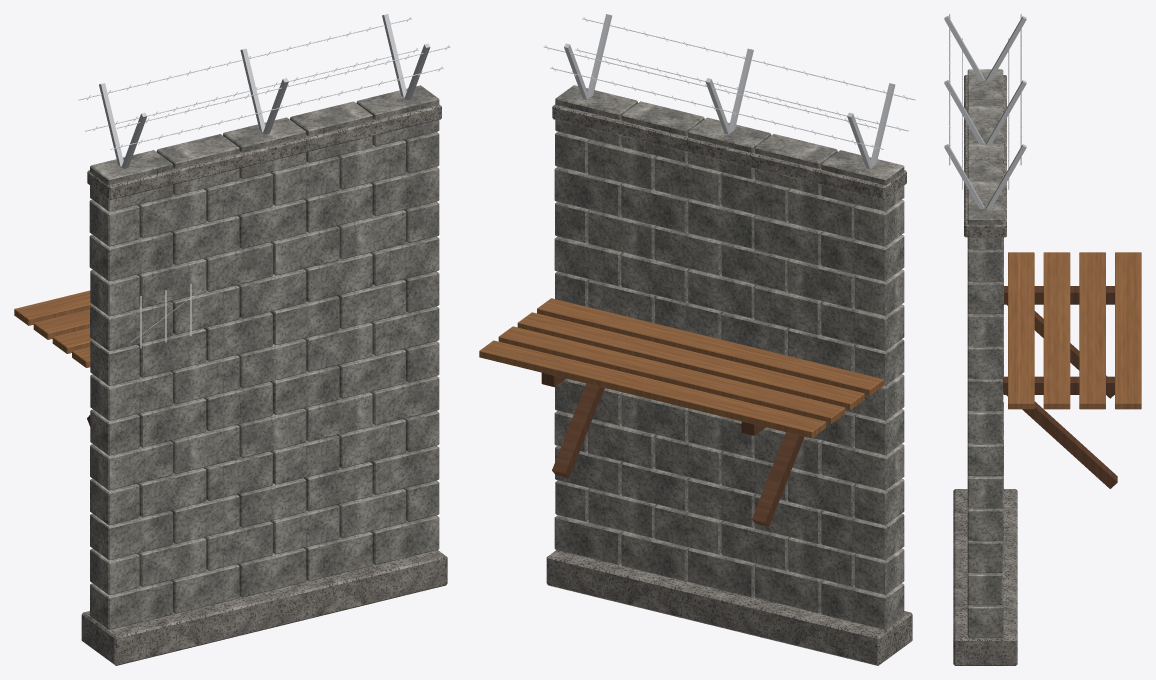
The model's file is muralha_concreto.glb.
The picture shows the model from 3 angles, left to right: view 1: azimuth 30°, elevation 25°; view 2: azimuth 150°, elevation 25°; view 3: azimuth 270°, elevation 25°; orthographic projection. The views are drawn at different scales.
Visible parts, largest first — view 1: muralha_concreto_concreto_bloco, muralha_concreto_concreto, muralha_concreto_aco, muralha_concreto_madeira; view 2: muralha_concreto_concreto_bloco, muralha_concreto_madeira, muralha_concreto_concreto, muralha_concreto_aco, muralha_concreto_madeira_escura; view 3: muralha_concreto_concreto_bloco, muralha_concreto_madeira, muralha_concreto_concreto, muralha_concreto_madeira_escura, muralha_concreto_aco.
Part boxes in pixels (x1=…): muralha_concreto_concreto_bloco: x1=89, y1=85, x2=439, y2=629; muralha_concreto_concreto: x1=81, y1=104, x2=447, y2=665; muralha_concreto_aco: x1=79, y1=14, x2=450, y2=168; muralha_concreto_madeira: x1=14, y1=290, x2=92, y2=367; muralha_concreto_concreto_bloco: x1=554, y1=85, x2=904, y2=629; muralha_concreto_madeira: x1=479, y1=298, x2=883, y2=438; muralha_concreto_concreto: x1=546, y1=104, x2=912, y2=665; muralha_concreto_aco: x1=544, y1=14, x2=915, y2=168; muralha_concreto_madeira_escura: x1=541, y1=372, x2=804, y2=526; muralha_concreto_concreto_bloco: x1=967, y1=69, x2=1003, y2=637; muralha_concreto_madeira: x1=1008, y1=252, x2=1141, y2=409; muralha_concreto_concreto: x1=953, y1=75, x2=1017, y2=665; muralha_concreto_madeira_escura: x1=1003, y1=286, x2=1117, y2=488; muralha_concreto_aco: x1=944, y1=14, x2=1026, y2=208.
Size of the model in its own units: 2 by 3.16 by 1.11.
Materials: 6 (4 with a texture image).
